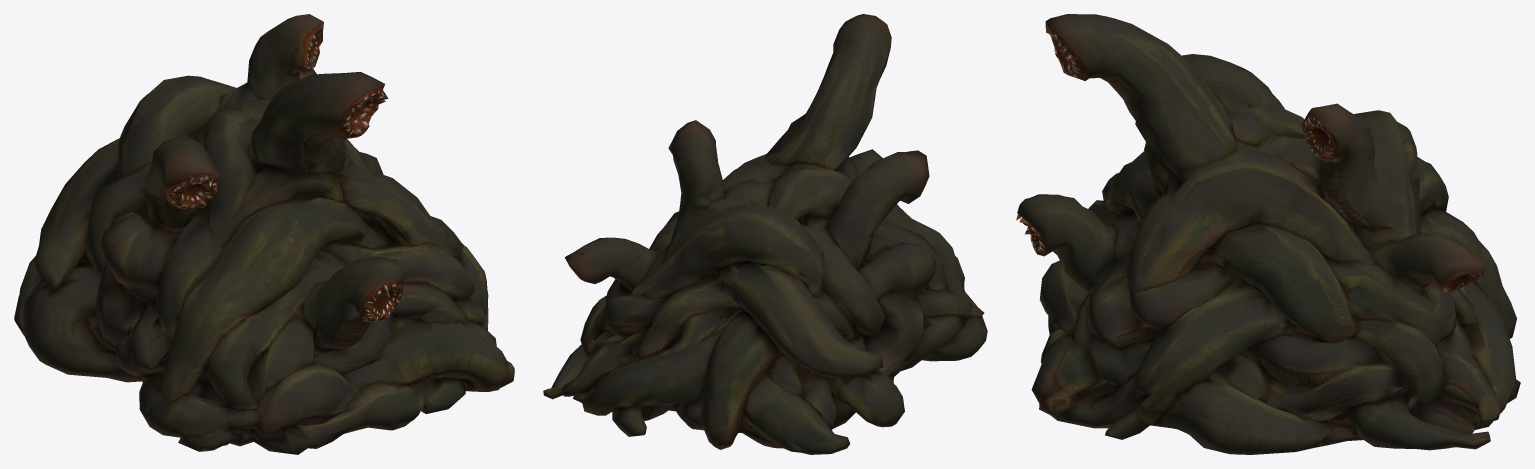
File: LeechSwarm.fbx
3 views of the same model, side by side, from view 1: azimuth 30°, elevation 25°; view 2: azimuth 150°, elevation 25°; view 3: azimuth 270°, elevation 25° (orthographic). The views are drawn at different scales.
Visible parts, largest first — view 1: LeechSwarm_Body; view 2: LeechSwarm_Body; view 3: LeechSwarm_Body.
Part boxes in pixels (x1,y1,x2,y2): LeechSwarm_Body: (14, 14, 514, 454); LeechSwarm_Body: (543, 14, 987, 454); LeechSwarm_Body: (1016, 14, 1520, 454).
Size of the model in its own units: 0.9848 by 0.9 by 1.16.
